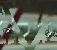Give way: (0, 0, 48, 48)
